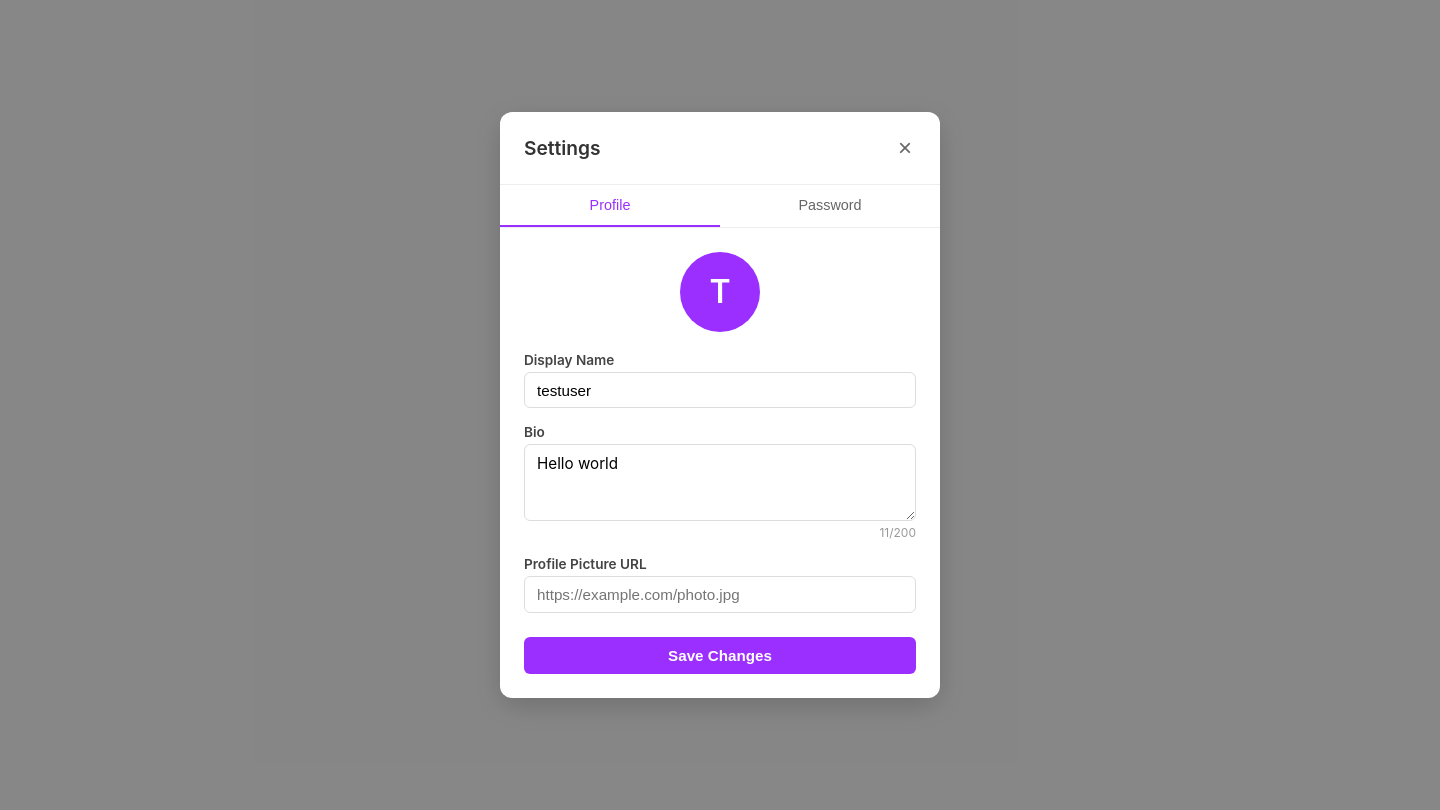
Test case: ProfileSettings Component › shows error when new password is too short
Click the button "Password": click(830, 206) [720,185,940,227]
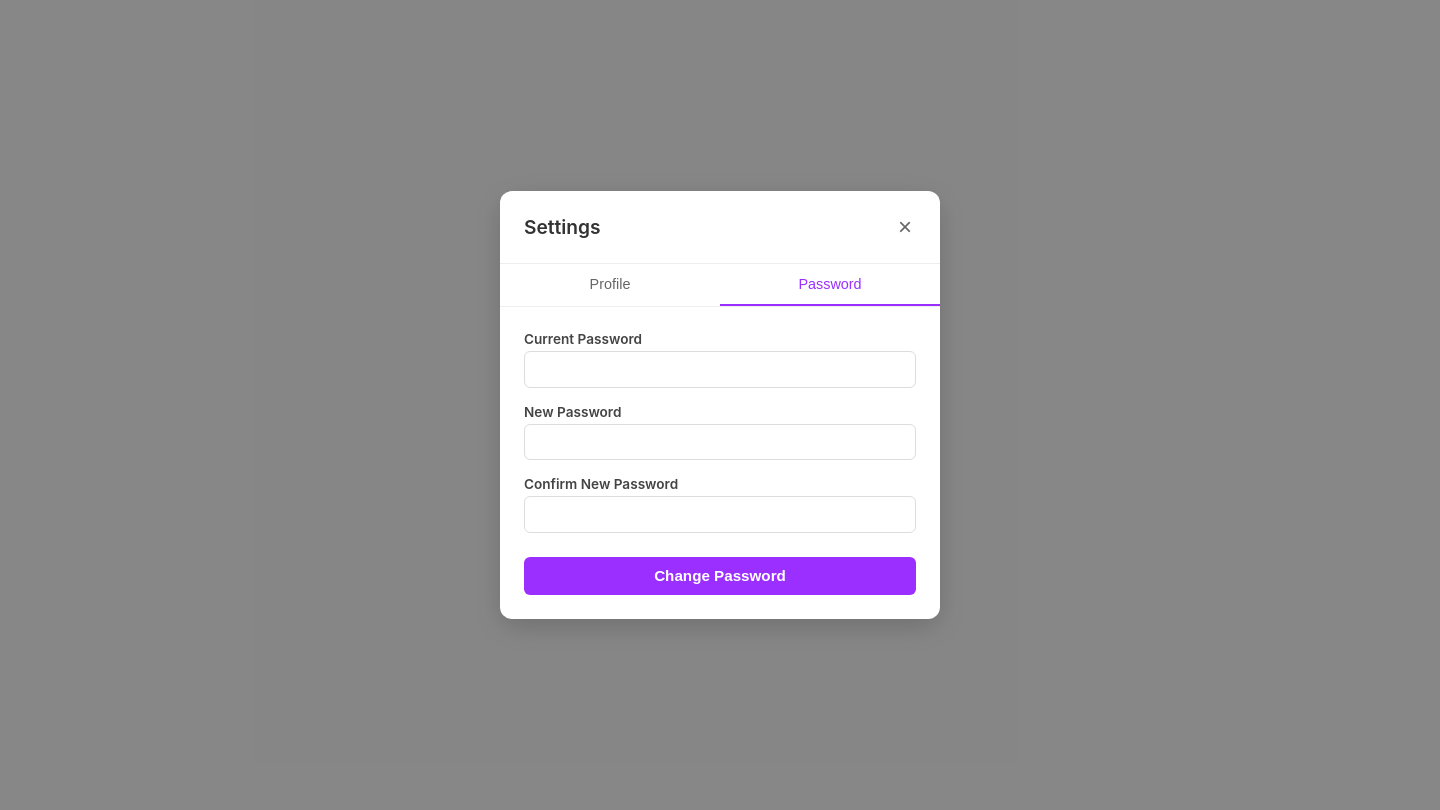
In the 1st password field: (720, 370) [524,351,916,388], type "oldpass"
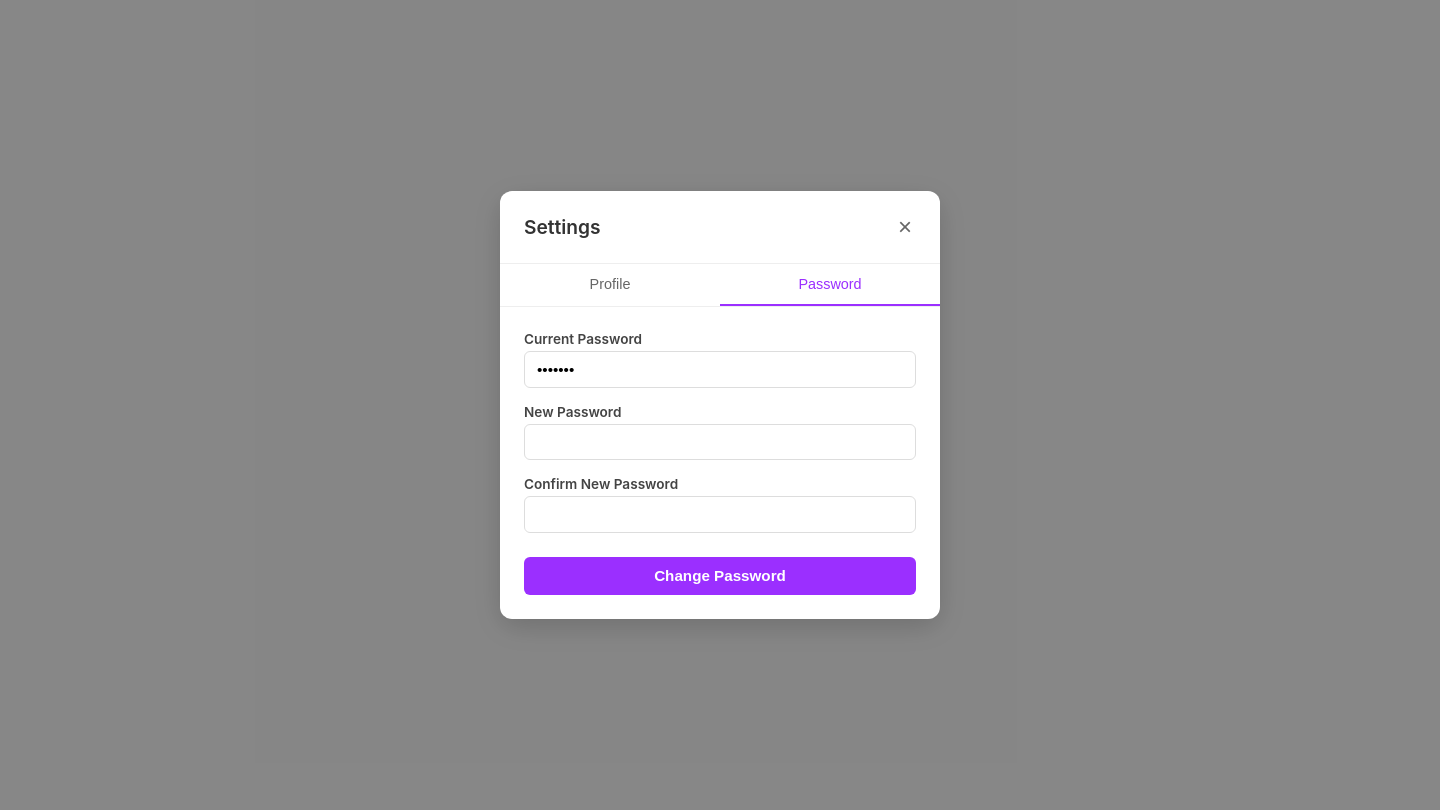
In the 2nd password field: (720, 442) [524,424,916,460], type "ab"
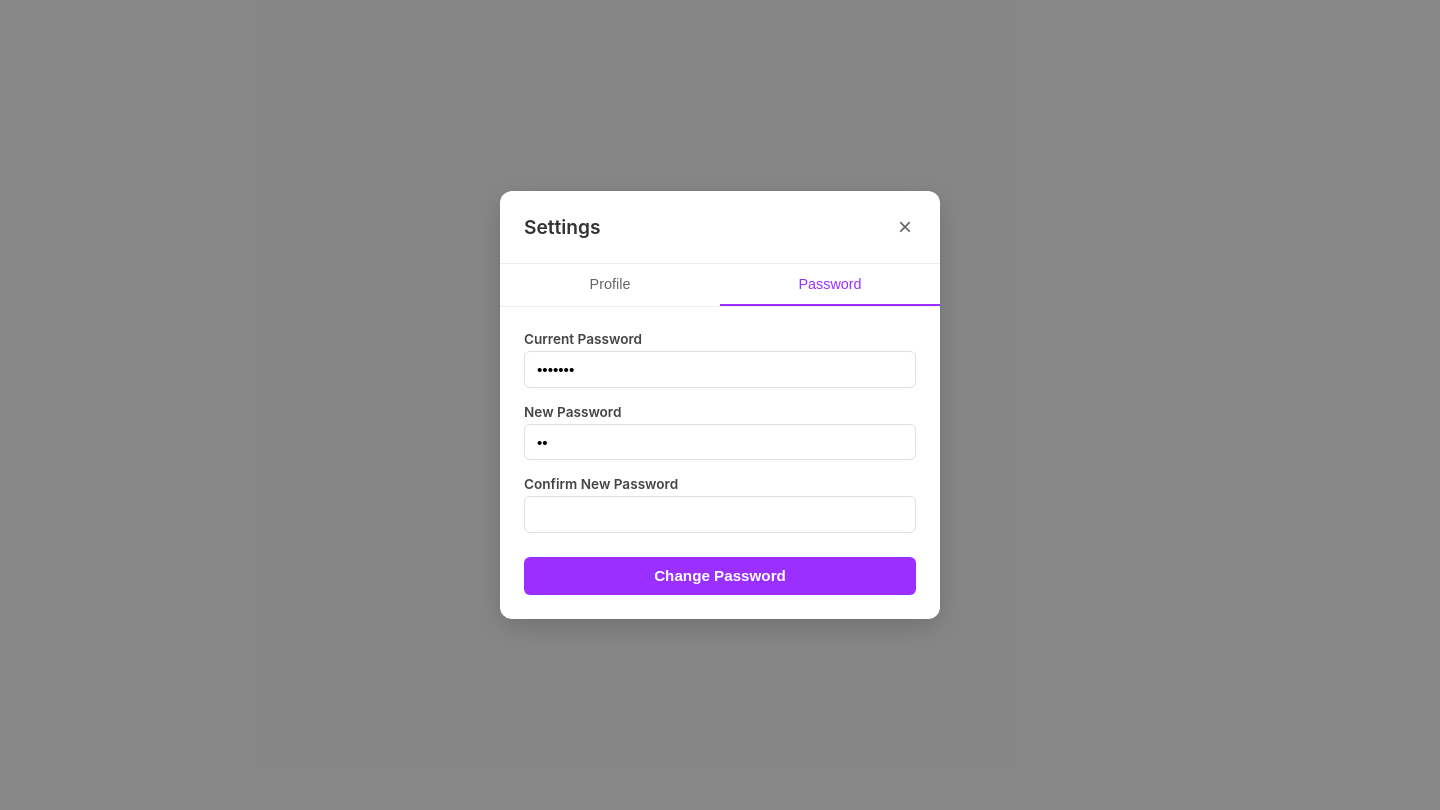
In the 3rd password field: (720, 515) [524,496,916,533], type "ab"
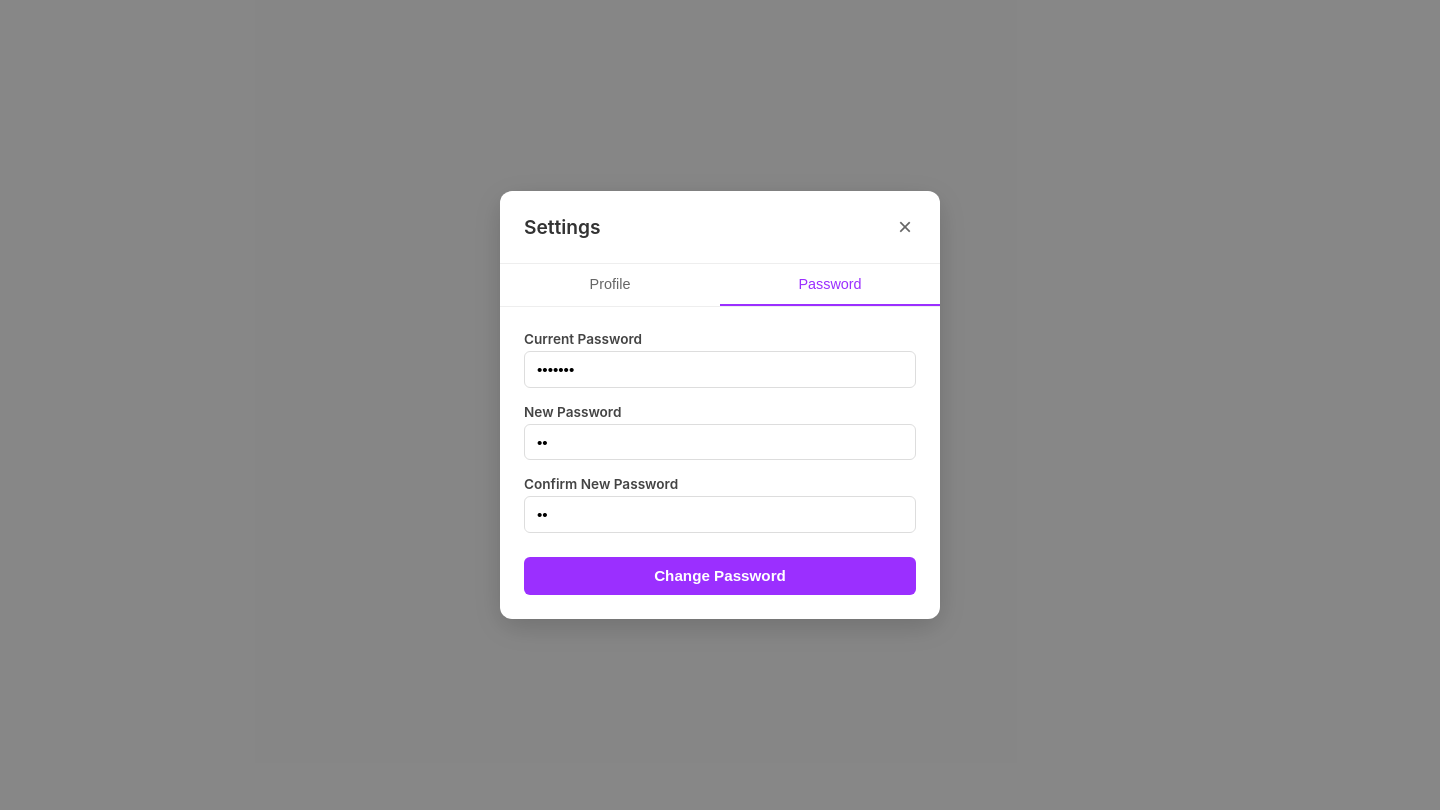
Click the button "Change Password": click(720, 576) [524,557,916,595]
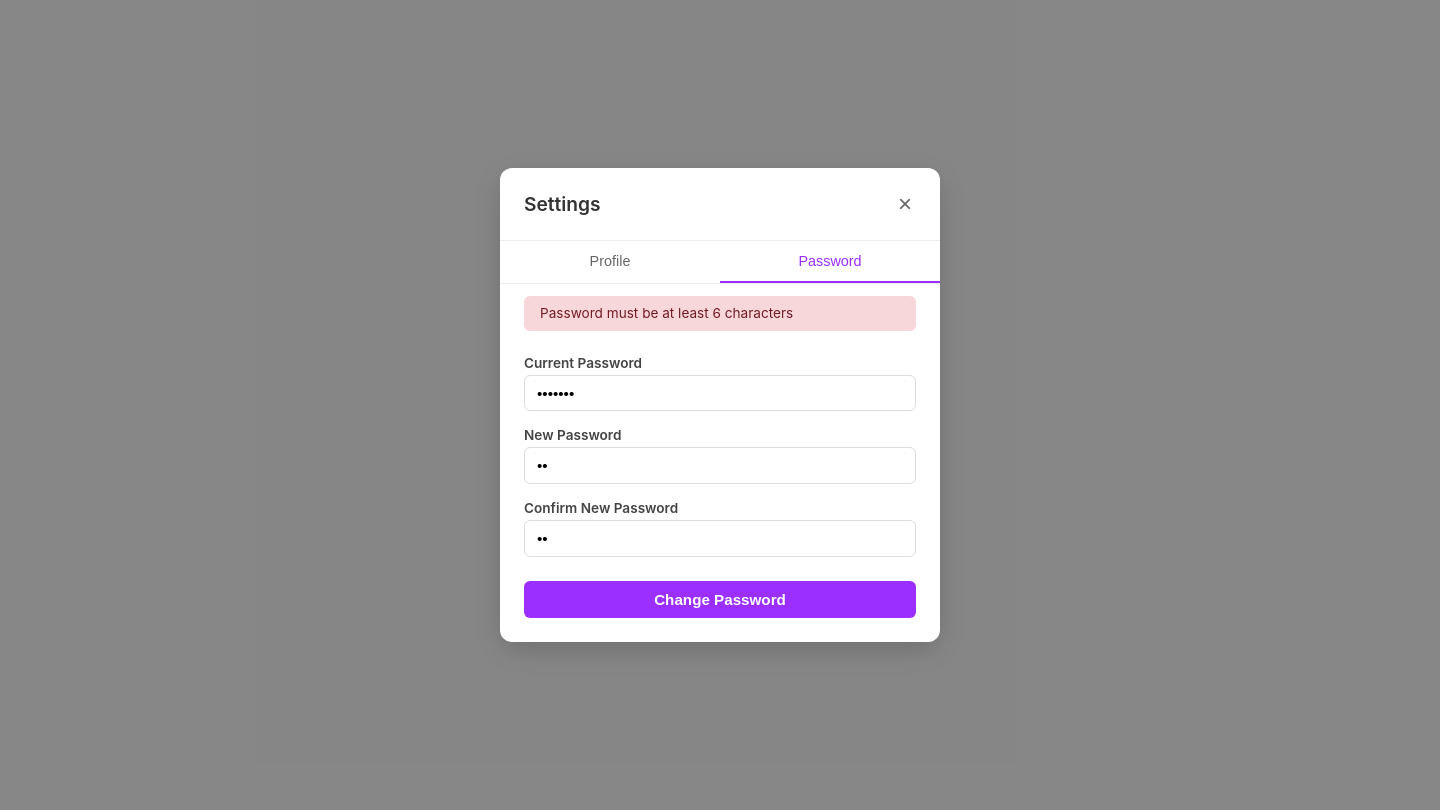
Result: the text "Password must be at least 6 characters" is shown at [524,296,916,331]
